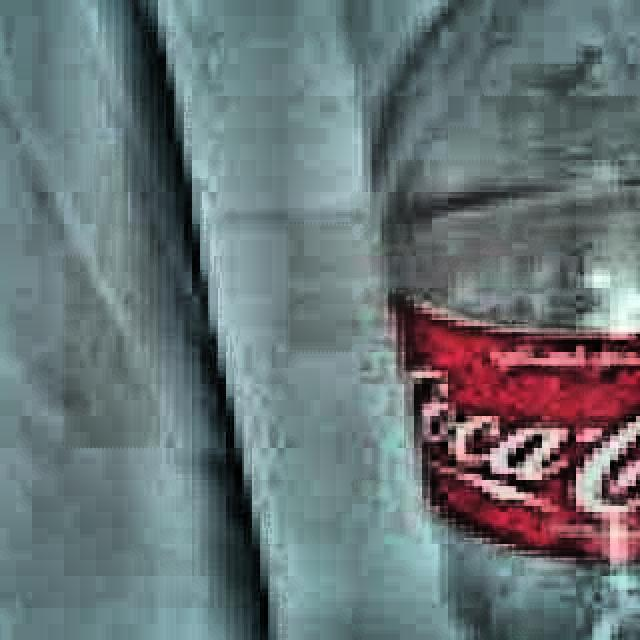plastic: (356, 0, 640, 640)
